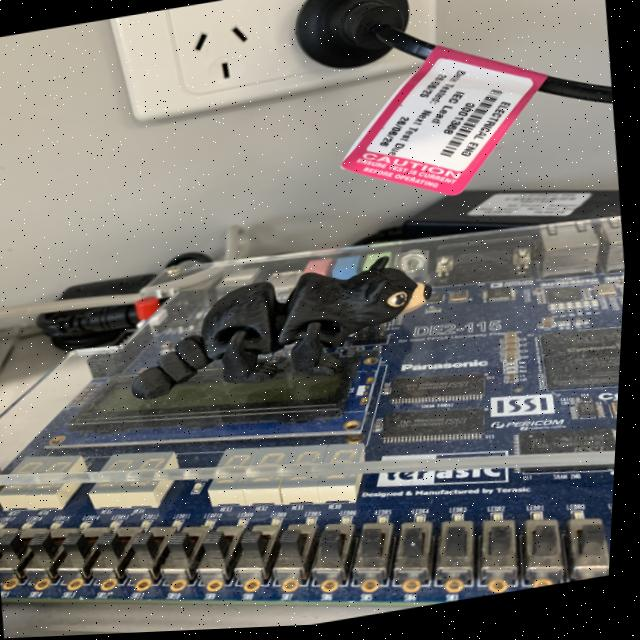tassie devil: (121, 248, 409, 405)
